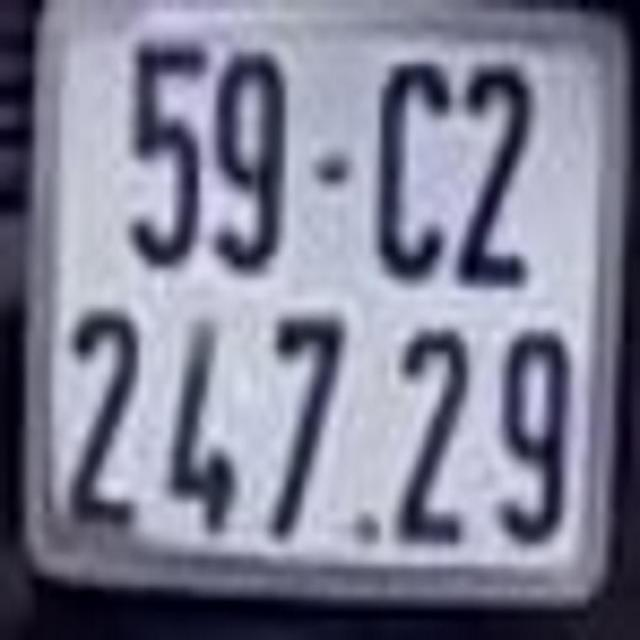2: (454, 47, 530, 290), (393, 312, 471, 543), (64, 303, 142, 528)
4: (158, 307, 238, 543)
5: (129, 36, 210, 270)
7: (264, 302, 340, 532)
9: (494, 316, 574, 544), (210, 40, 289, 270)
C: (373, 50, 453, 280)
